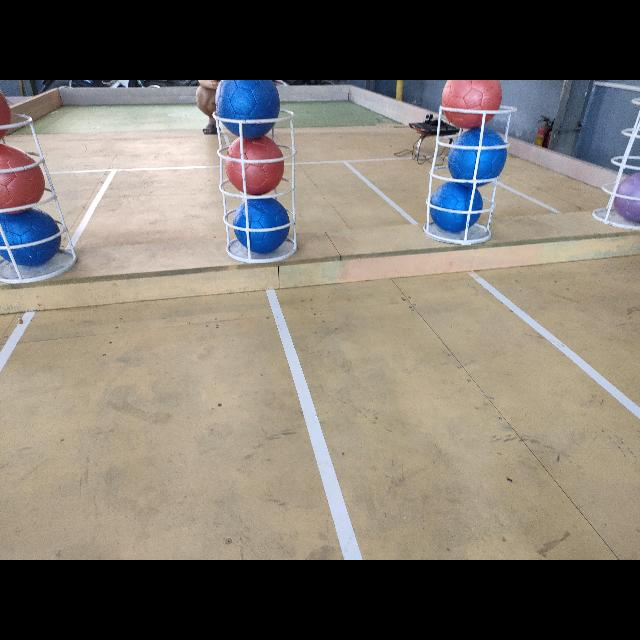B: (213, 80, 281, 134), (447, 130, 507, 187), (1, 210, 62, 266), (232, 200, 292, 256), (430, 180, 482, 233)
R: (226, 137, 286, 196), (0, 143, 46, 214), (441, 80, 504, 128)
